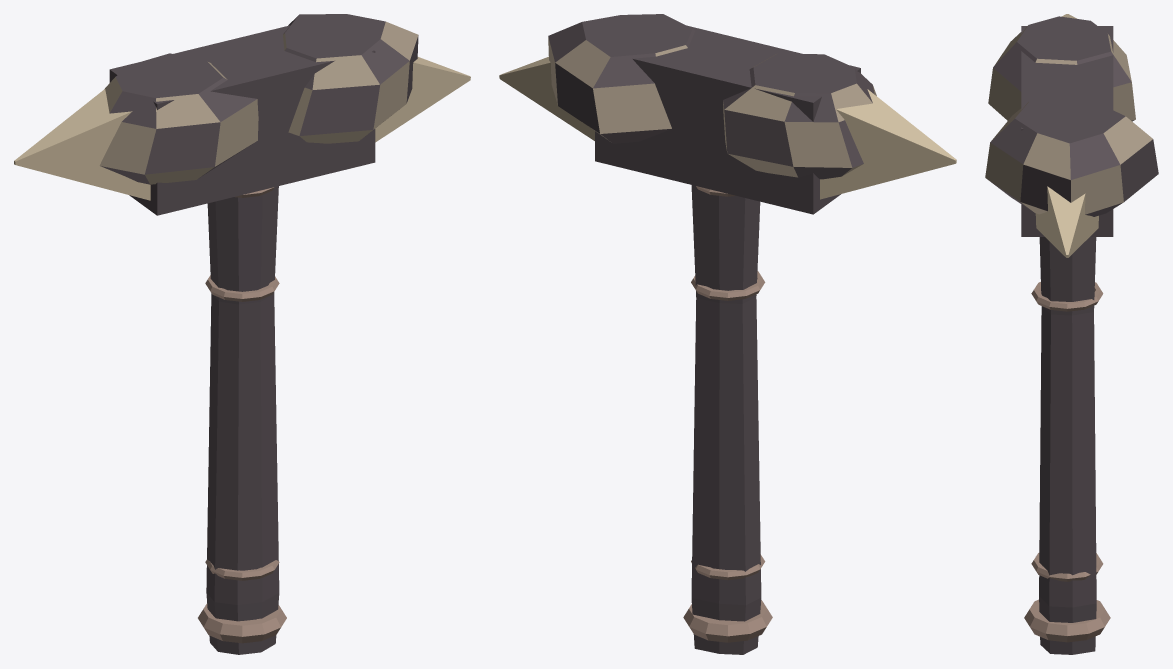
The model's file is BH_PICK_P11_Rachadora_das_Ruinas_V01.glb.
The picture shows the model from 3 angles, left to right: view 1: azimuth 30°, elevation 25°; view 2: azimuth 150°, elevation 25°; view 3: azimuth 270°, elevation 25°; orthographic projection. The views are drawn at different scales.
Parts seen in each view (by area): view 1: Handle | shaped shaft.001, Head | main crossbar.001, Head | lunar slab -1.001, Head | lunar slab 1.001, Head | mining tooth L.001, Head | mining tooth R.001, Handle | pommel.001, Handle | binding 3.001, Handle | binding 1.001; view 2: Handle | shaped shaft.001, Head | main crossbar.001, Head | lunar slab -1.001, Head | lunar slab 1.001, Head | mining tooth L.001, Head | mining tooth R.001, Handle | pommel.001, Handle | binding 3.001, Handle | binding 1.001; view 3: Handle | shaped shaft.001, Head | lunar slab 1.001, Head | lunar slab -1.001, Head | main crossbar.001, Head | mining tooth R.001, Handle | pommel.001, Handle | binding 3.001, Handle | binding 1.001.
Boxes of the visible parts, x1=… form: Handle | shaped shaft.001: x1=206, y1=186, x2=279, y2=654; Head | main crossbar.001: x1=109, y1=25, x2=375, y2=215; Head | lunar slab -1.001: x1=99, y1=53, x2=258, y2=184; Head | lunar slab 1.001: x1=283, y1=14, x2=418, y2=143; Head | mining tooth L.001: x1=14, y1=89, x2=150, y2=200; Head | mining tooth R.001: x1=375, y1=57, x2=470, y2=142; Handle | pommel.001: x1=198, y1=603, x2=286, y2=643; Handle | binding 3.001: x1=205, y1=275, x2=279, y2=301; Handle | binding 1.001: x1=205, y1=559, x2=279, y2=580; Handle | shaped shaft.001: x1=691, y1=185, x2=761, y2=654; Head | main crossbar.001: x1=595, y1=25, x2=860, y2=214; Head | lunar slab -1.001: x1=723, y1=53, x2=876, y2=179; Head | lunar slab 1.001: x1=548, y1=14, x2=694, y2=143; Head | mining tooth L.001: x1=820, y1=89, x2=956, y2=199; Head | mining tooth R.001: x1=499, y1=56, x2=594, y2=140; Handle | pommel.001: x1=683, y1=600, x2=772, y2=642; Handle | binding 3.001: x1=691, y1=271, x2=765, y2=300; Handle | binding 1.001: x1=691, y1=554, x2=765, y2=580; Handle | shaped shaft.001: x1=1039, y1=237, x2=1096, y2=654; Head | lunar slab 1.001: x1=985, y1=95, x2=1158, y2=216; Head | lunar slab -1.001: x1=988, y1=16, x2=1135, y2=121; Head | main crossbar.001: x1=1021, y1=26, x2=1113, y2=236; Head | mining tooth R.001: x1=1035, y1=186, x2=1098, y2=257; Handle | pommel.001: x1=1024, y1=599, x2=1110, y2=642; Handle | binding 3.001: x1=1031, y1=282, x2=1103, y2=311; Handle | binding 1.001: x1=1031, y1=553, x2=1103, y2=581.
Bounding box in the file's own units: 1.88 × 2.31 × 0.6408.
